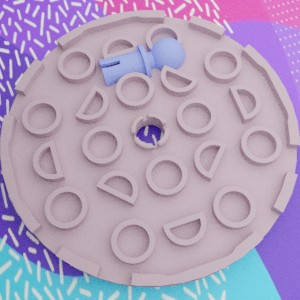lego: (0, 10, 300, 287), (98, 37, 185, 89)
